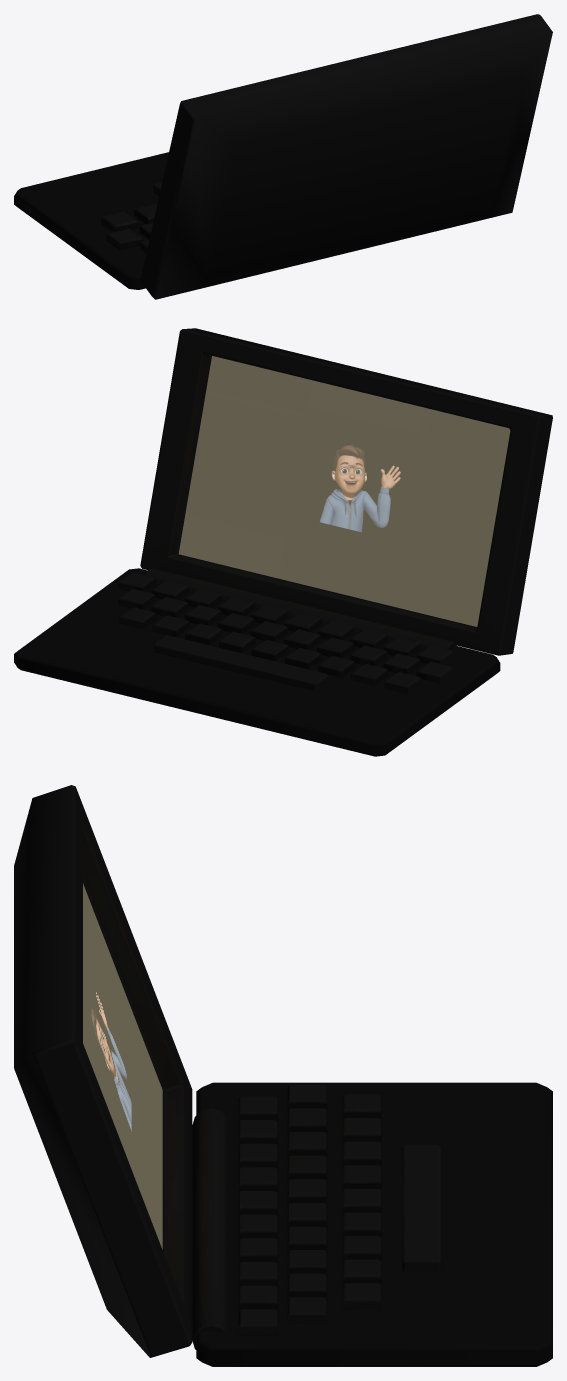
The picture shows the model from 3 angles, top to bottom: view 1: azimuth 30°, elevation 25°; view 2: azimuth 150°, elevation 25°; view 3: azimuth 270°, elevation 25°; orthographic projection. The views are drawn at different scales.
Visible parts, largest first — view 1: Cube, Cube.001, Cube.004, Cube.003; view 2: Cube.006, Cube, Cube.001, Cube.003, Cube.002, Cube.004, Cube.005, Cylinder; view 3: Cube.001, Cube, Cube.006, Cube.002, Cube.003, Cube.004, Cylinder, Cube.005.
Part boxes in pixels (bbox=[...]): Cube: bbox=[140, 14, 552, 299]; Cube.001: bbox=[14, 152, 168, 289]; Cube.004: bbox=[101, 203, 157, 232]; Cube.003: bbox=[106, 223, 152, 250]; Cube.006: bbox=[178, 356, 510, 626]; Cube: bbox=[140, 328, 552, 655]; Cube.001: bbox=[14, 568, 500, 756]; Cube.003: bbox=[118, 589, 453, 683]; Cube.002: bbox=[118, 572, 453, 664]; Cube.004: bbox=[119, 607, 421, 693]; Cube.005: bbox=[153, 635, 328, 690]; Cylinder: bbox=[144, 568, 456, 649]; Cube.001: bbox=[196, 1082, 552, 1366]; Cube: bbox=[14, 785, 192, 1357]; Cube.006: bbox=[83, 883, 162, 1249]; Cube.002: bbox=[238, 1096, 278, 1335]; Cube.003: bbox=[287, 1084, 327, 1323]; Cube.004: bbox=[342, 1094, 381, 1309]; Cylinder: bbox=[192, 1108, 226, 1349]; Cube.005: bbox=[402, 1144, 441, 1271].
Size of the model in its own units: 20.19 by 11.61 by 17.26.
8 materials, 8 textured.
